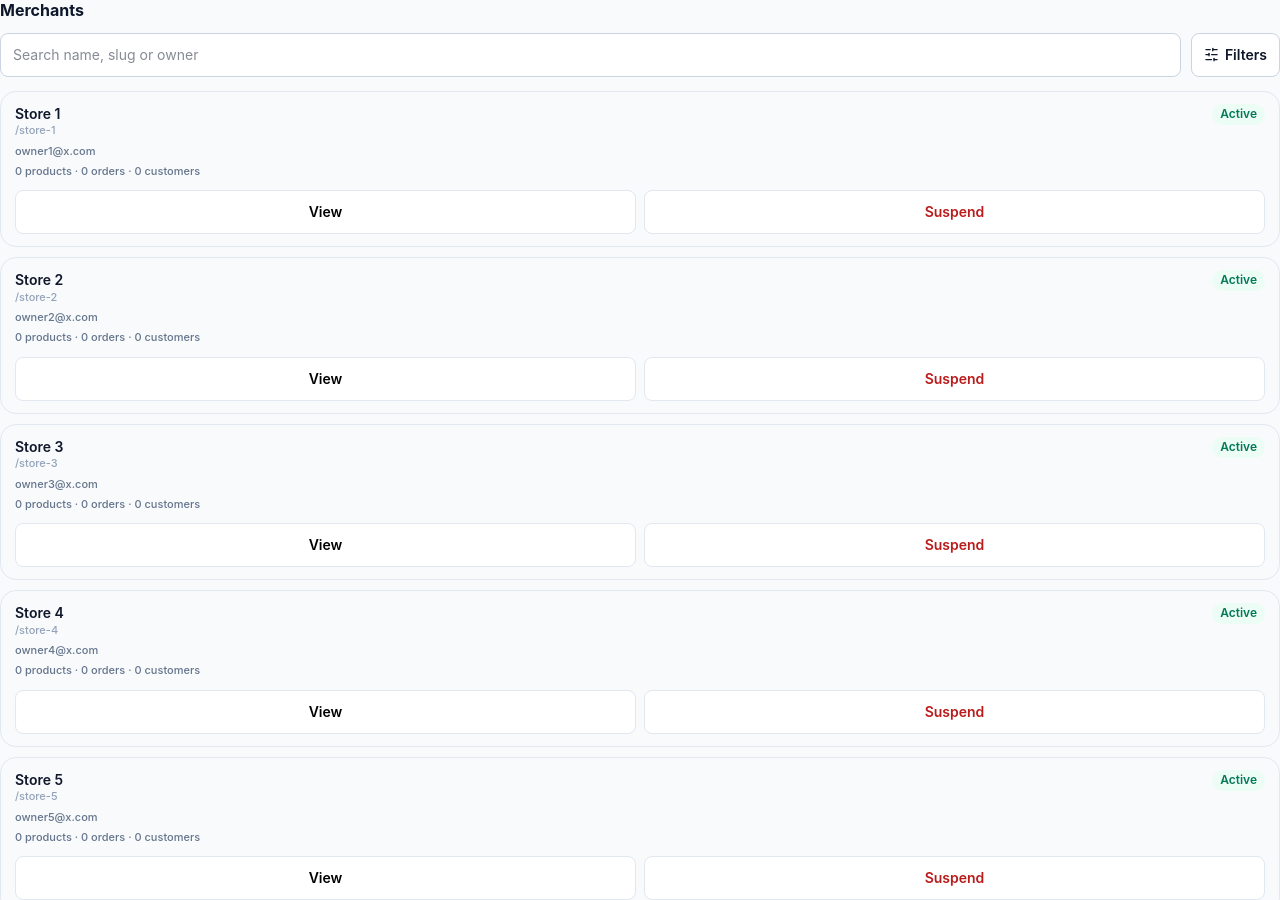
Test: MerchantsList › on mobile, hides filters behind a Filters button and lists stores as cards
This screenshot has width=1280, height=900.
Click the button "Filters": [1235, 55] box x1=1191 y1=33 x2=1279 y2=77
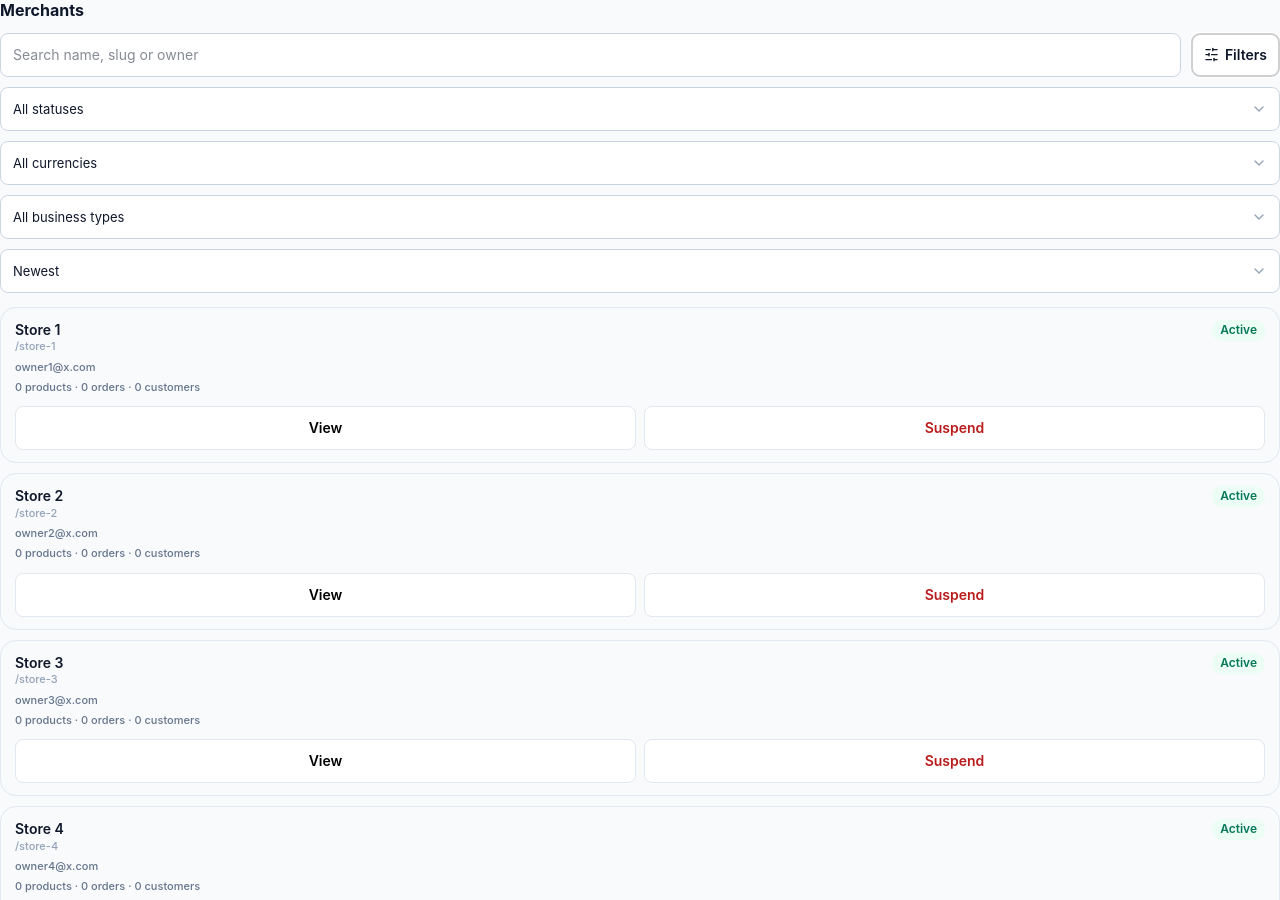
Expected: the button with aria-label "View Store 1" is shown, x1=15 y1=406 x2=636 y2=450
Expected: the dropdown named "Filter by status" is shown, x1=0 y1=87 x2=1279 y2=131
